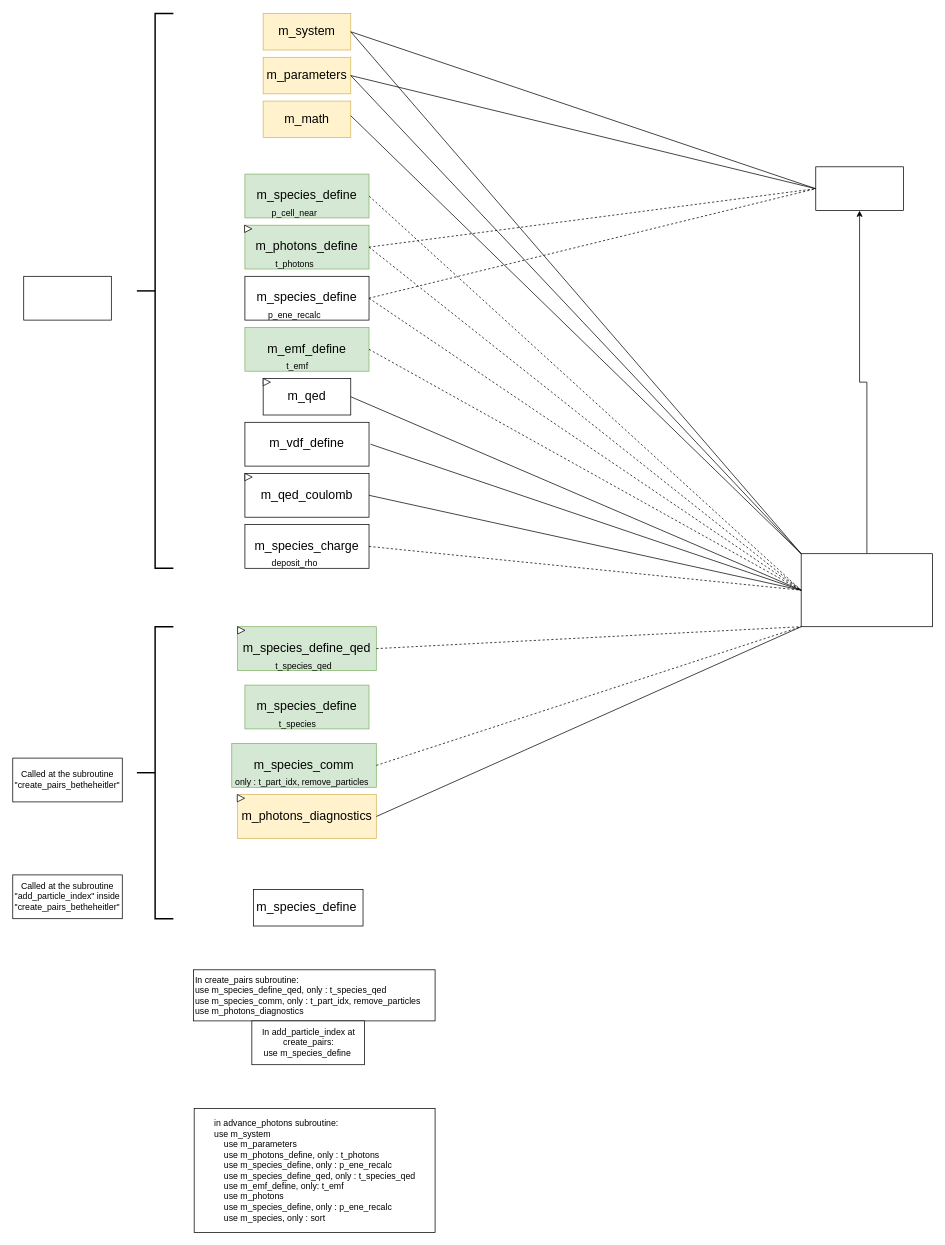
Some shapes in this 945 by 1245 pixel diagram are drawn without their labels. Here are the shapes that lost their labels. From the top down, the centre of each, then its label:
At (x=67, y=298): "Called at the beginning of m_photons".
At (x=866, y=590): "m_photons".
